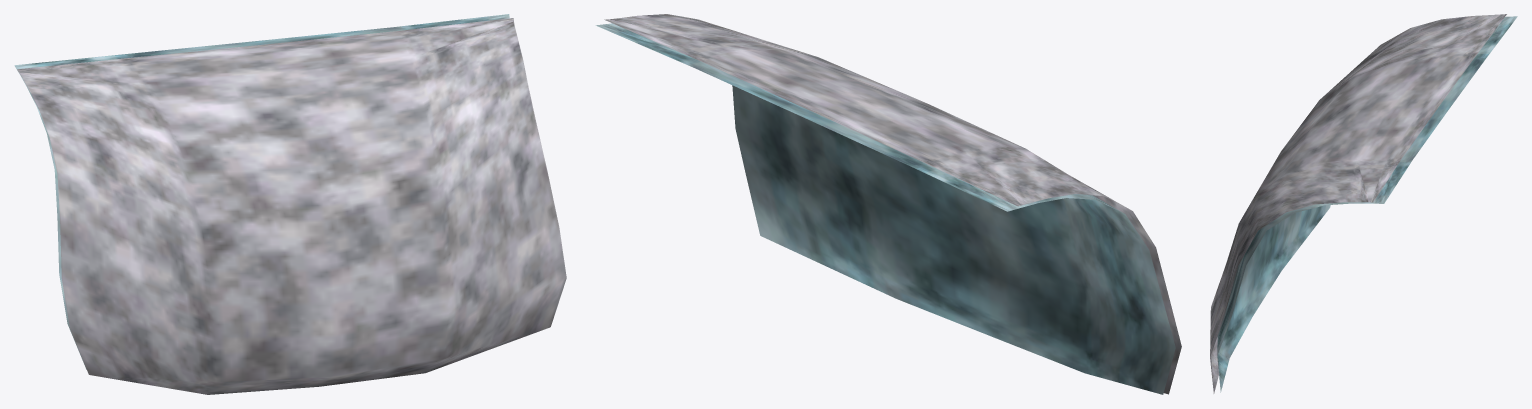
File: CB_NEWPLAYSURFACE_CB_WATERFALLS07.fbx
The picture shows the model from 3 angles, left to right: view 1: azimuth 30°, elevation 25°; view 2: azimuth 150°, elevation 25°; view 3: azimuth 270°, elevation 25°; orthographic projection. The views are drawn at different scales.
Parts seen in each view (by area): view 1: CB_NEWPLAYSURFACE_CB_WATERFALLS07; view 2: CB_NEWPLAYSURFACE_CB_WATERFALLS07; view 3: CB_NEWPLAYSURFACE_CB_WATERFALLS07.
Part boxes in pixels (x1,y1,x2,y2): CB_NEWPLAYSURFACE_CB_WATERFALLS07: (14, 14, 566, 394); CB_NEWPLAYSURFACE_CB_WATERFALLS07: (595, 14, 1181, 394); CB_NEWPLAYSURFACE_CB_WATERFALLS07: (1210, 14, 1517, 393).
Size of the model in its own units: 105572 by 54747 by 65483.
Materials: 2 (2 with a texture image).
